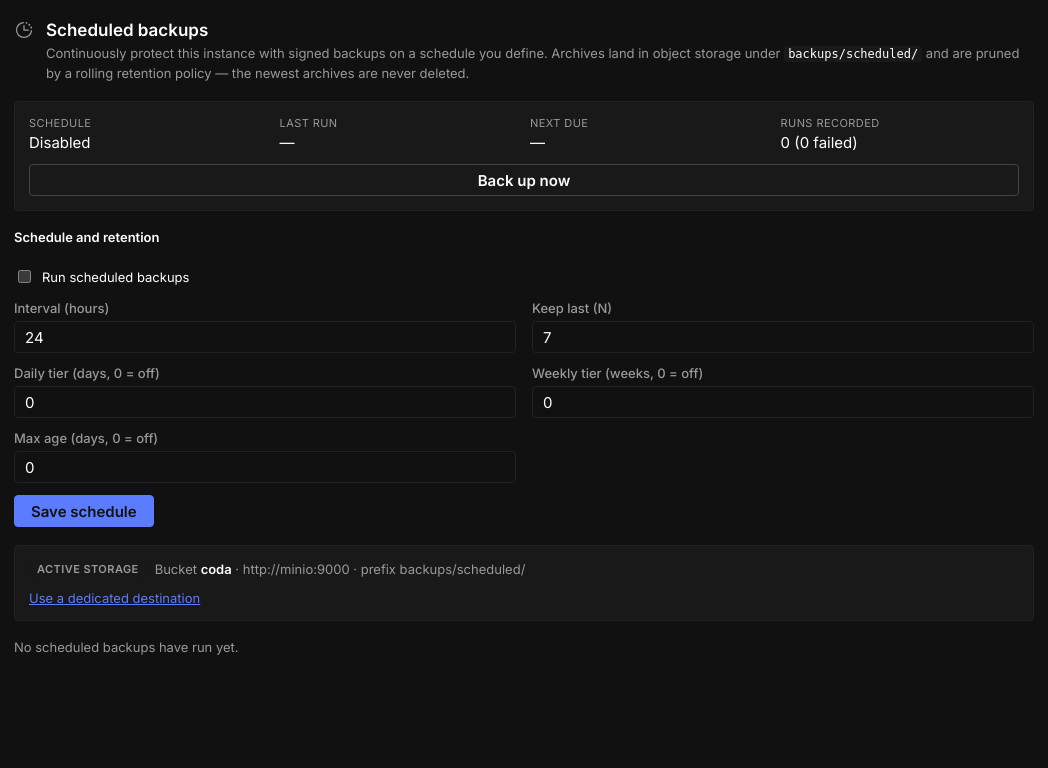
ScheduledBackupsPanel › saves an edited schedule
Expected: the text "Active storage" is shown, left=29, top=560, right=147, bottom=578
Click the checkbox labelled "Run scheduled backups". click: x=24, y=276
box: left=18, top=270, right=31, bottom=283
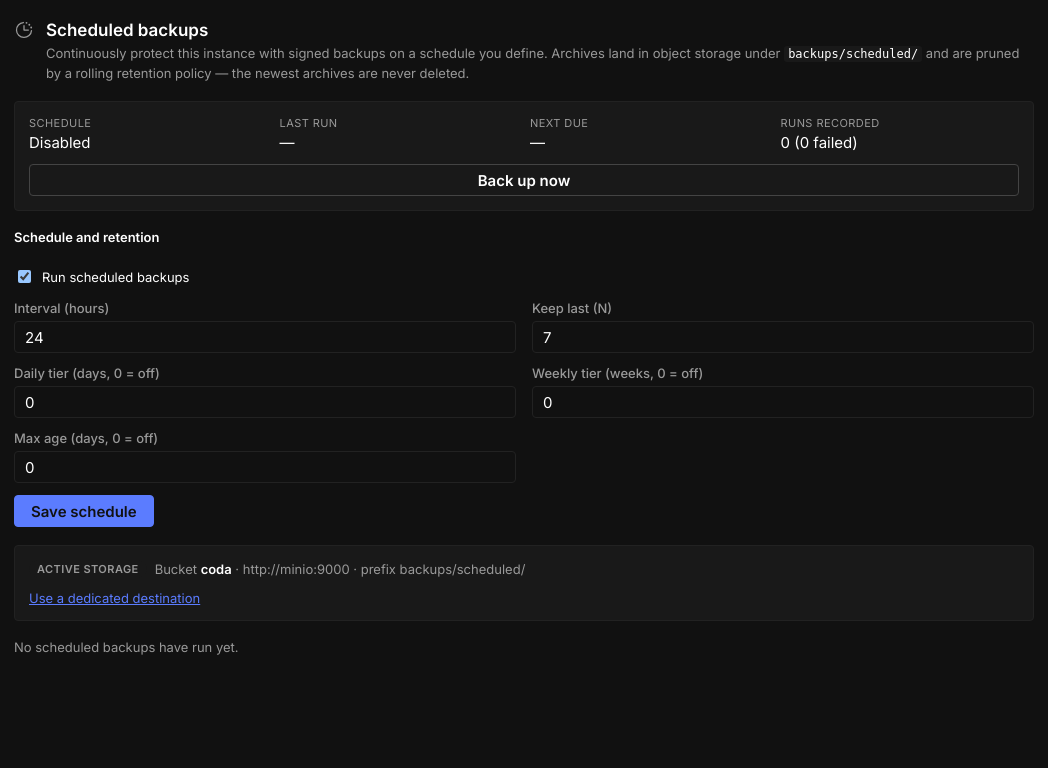
Replace the text in the number field labelled "Keep last (N)" with "14". click: x=783, y=337
box: left=532, top=321, right=1034, bottom=353
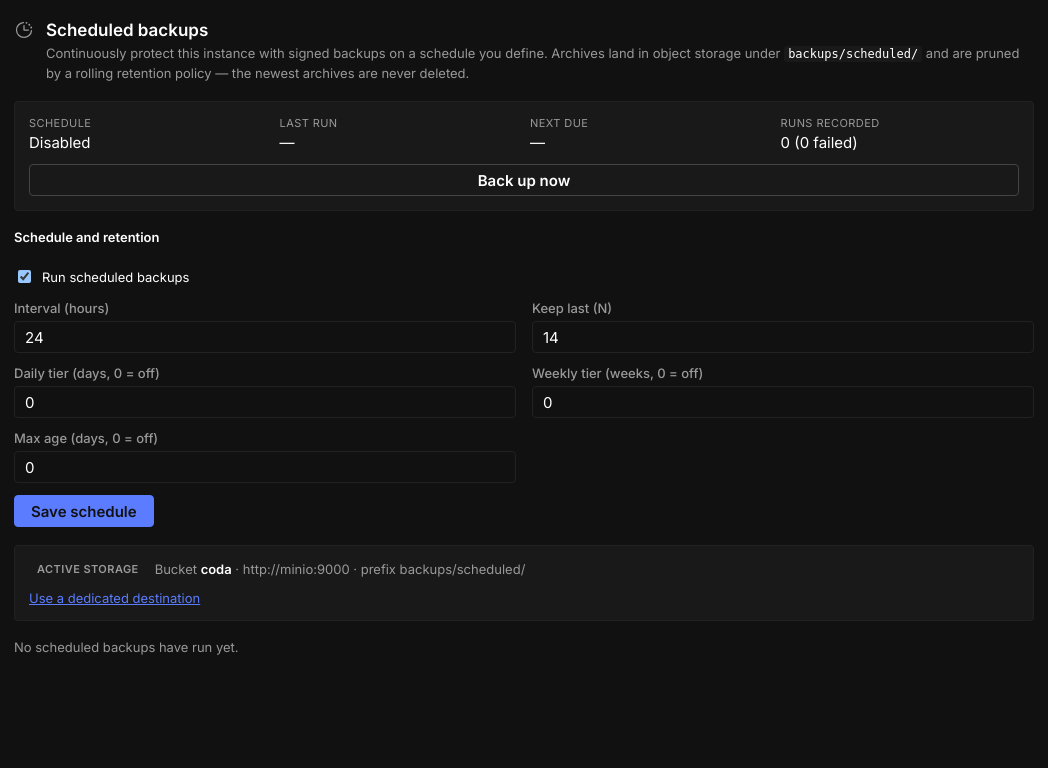
Click the button "Save schedule". click: x=84, y=511
box: left=14, top=495, right=154, bottom=527
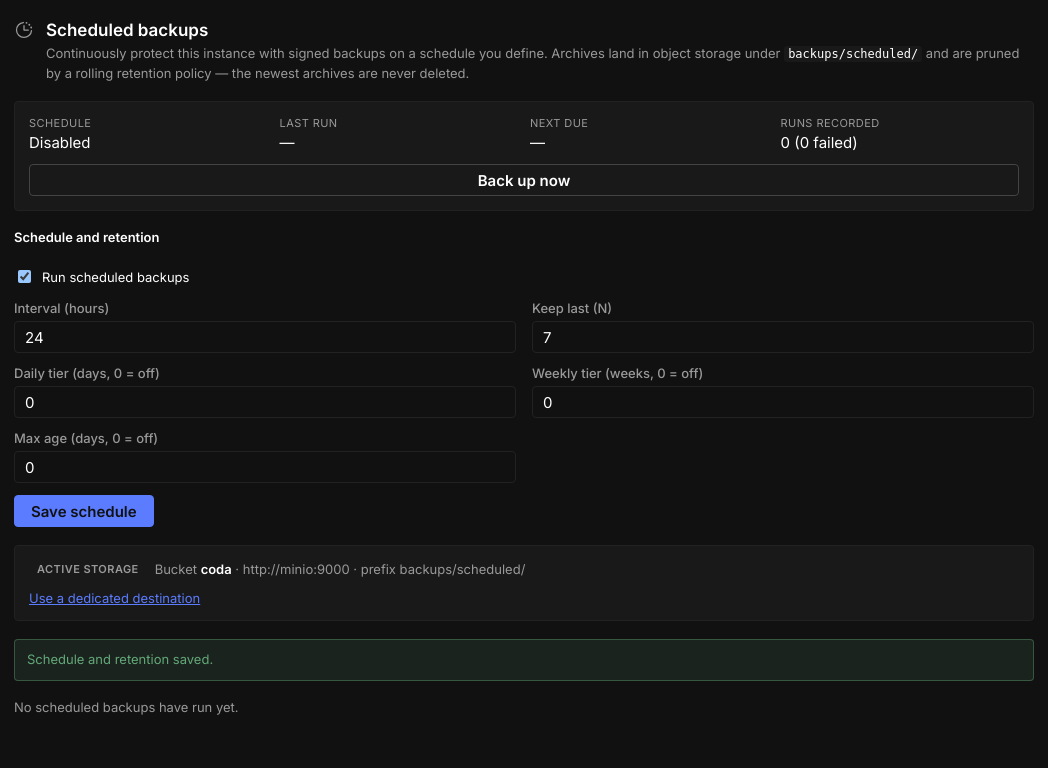
Expected: the text "Schedule and retention saved." is shown, left=14, top=639, right=1034, bottom=680
